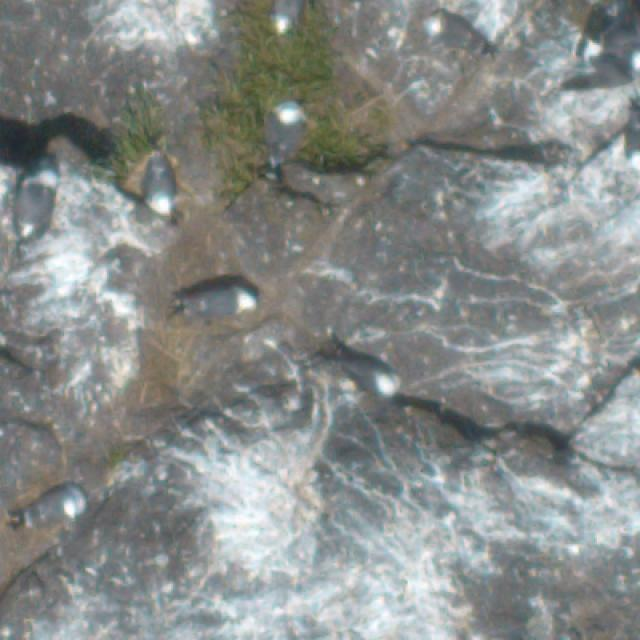umineko: (17, 486, 88, 530), (264, 100, 302, 176), (16, 167, 57, 237), (186, 285, 259, 317), (348, 360, 401, 399), (150, 161, 176, 212)
